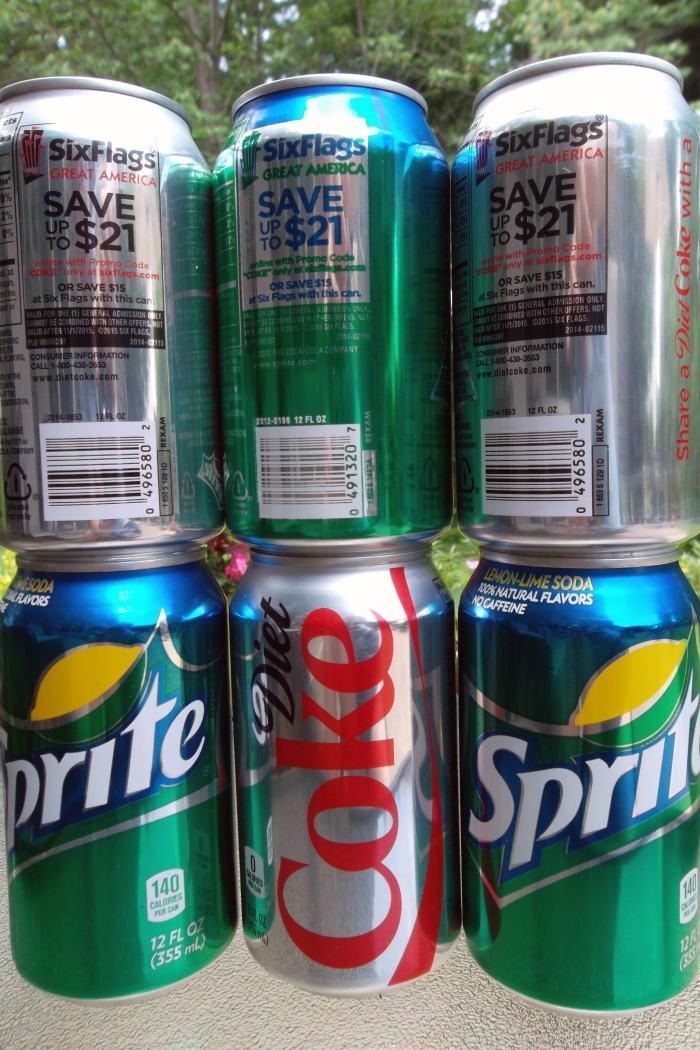can: (444, 46, 700, 569), (209, 67, 461, 553), (455, 530, 700, 1017), (226, 535, 482, 998), (1, 75, 241, 555), (11, 545, 244, 1014)
